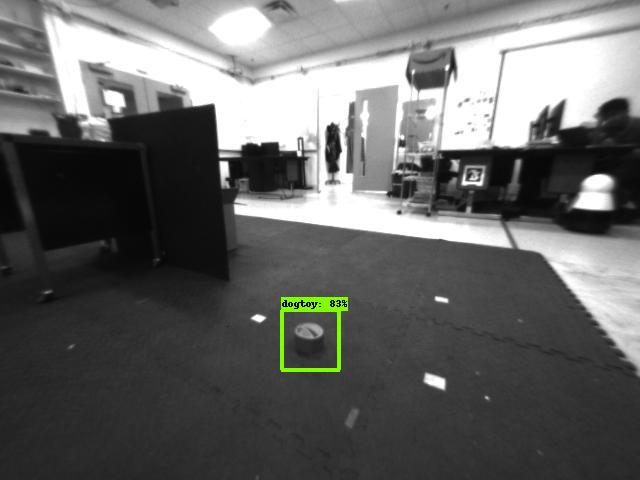dogtoy: (280, 312, 341, 365)
